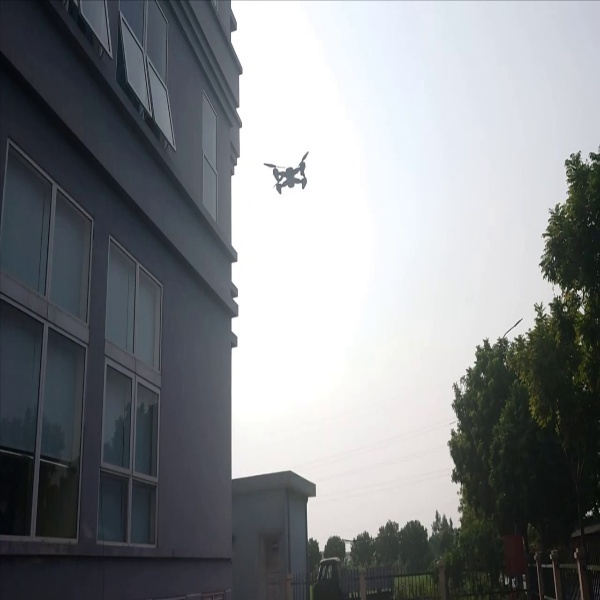drone: (260, 144, 317, 204)
